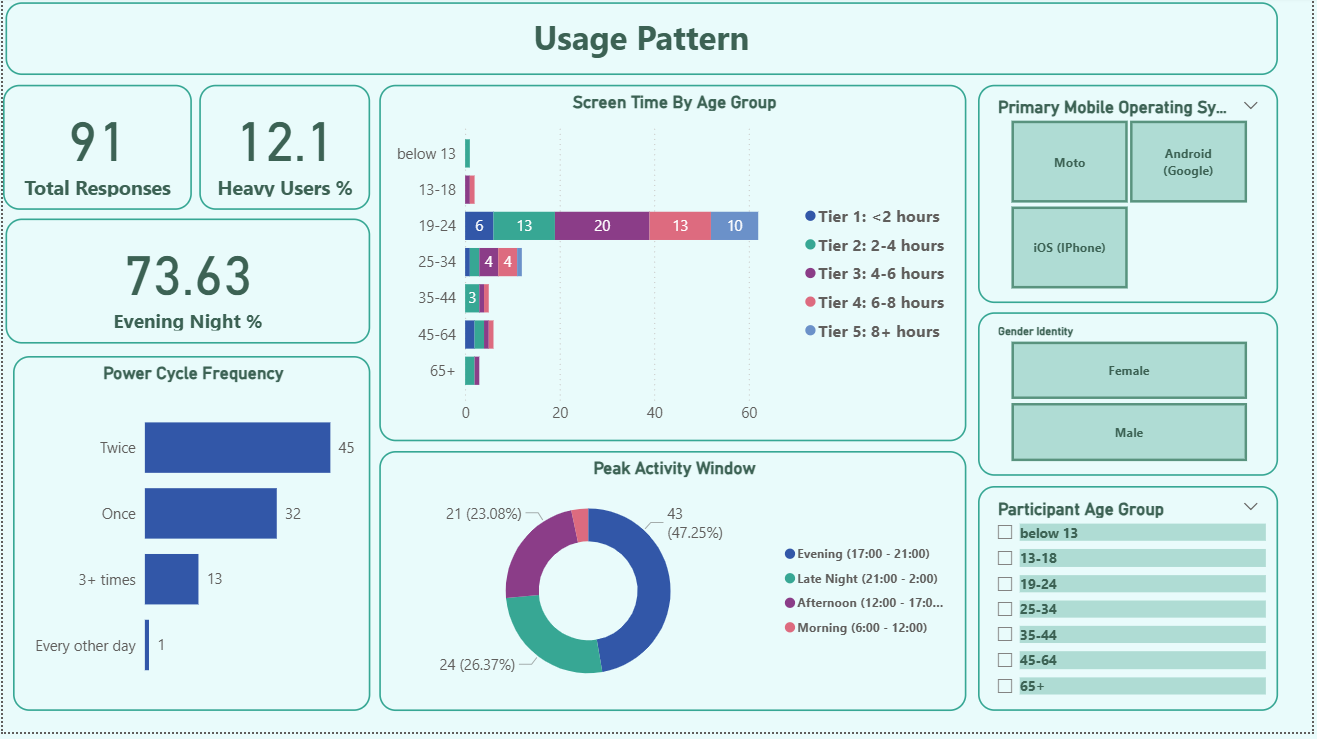

What the dashboard file says about the page in this screenshot:
{"tool":"powerbi","page":{"name":"Usage Pattern","canvas":[1280,720],"ordinal":1},"visuals":[{"type":"barChart","title":"Screen Time By Age Group","fields":{"Category":["Form responses 1.Participant Age Group"],"Series":["Form responses 1.Screen Time Tier"],"Y":["Form responses 1.Total Responses"]},"box":[368.1,86.8,574.7,348.5],"z":0},{"type":"donutChart","title":"Peak Activity Window  ","fields":{"Category":["Form responses 1.  Peak Activity Window  "],"Y":["Form responses 1.Total Responses"]},"box":[368.1,445.1,574.7,254.3],"z":1000},{"type":"barChart","title":"Power Cycle Frequency  ","fields":{"Category":["Form responses 1.Daily Power Cycle Frequency  "],"Y":["Form responses 1.Total Responses"]},"box":[9.8,352.2,349.7,347.3],"z":2000},{"type":"slicer","title":"kkkk","fields":{"Values":["Form responses 1.Primary Mobile Operating System"]},"box":[953.8,86.8,293.5,214],"z":3000},{"type":"slicer","fields":{"Values":["Form responses 1.Gender Identity"]},"box":[953.8,309.4,293.5,160.2],"z":4000},{"type":"slicer","fields":{"Values":["Form responses 1.Participant Age Group"]},"box":[953.8,479.4,293.5,220.1],"z":5000},{"type":"textbox","box":[2.4,6.1,1244.8,70.9],"z":6000},{"type":"card","fields":{"Values":["Form responses 1.Total Responses"]},"box":[0,86.8,184.6,122.3],"z":7000},{"type":"card","fields":{"Values":["Form responses 1.Heavy Users %"]},"box":[192,86.8,167.5,122.3],"z":8000},{"type":"card","fields":{"Values":["Form responses 1.Evening Night %"]},"box":[2.4,217.7,357.1,122.3],"z":9000}]}

Visuals, with their boxes in screenshot pixels (x1, y1, x2, y2), scaled from the page's 1280x720 canvas onto the 1317x739 screenshot:
"Screen Time By Age Group" barChart: 379,89,970,447
"Peak Activity Window  " donutChart: 379,457,970,718
"Power Cycle Frequency  " barChart: 10,361,370,718
"kkkk" slicer: 981,89,1283,309
slicer - Form responses 1.Gender Identity: 981,318,1283,482
slicer - Form responses 1.Participant Age Group: 981,492,1283,718
textbox: 2,6,1283,79
card - Form responses 1.Total Responses: 0,89,190,215
card - Form responses 1.Heavy Users %: 198,89,370,215
card - Form responses 1.Evening Night %: 2,223,370,349
